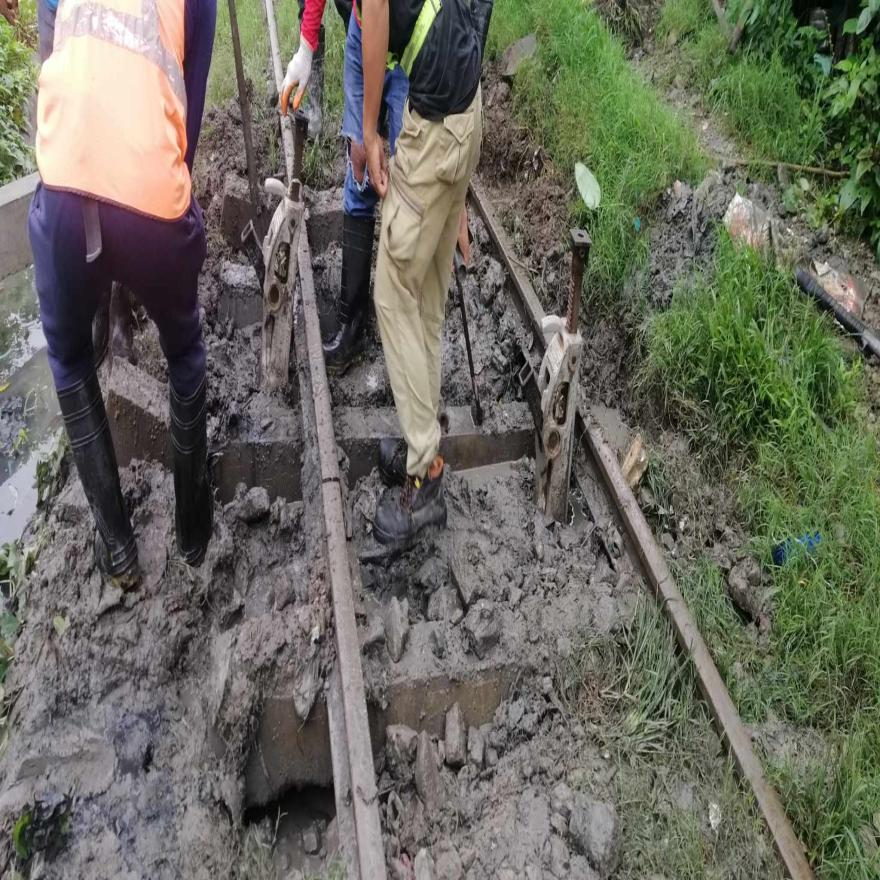railway-gap: (308, 440, 352, 522)
